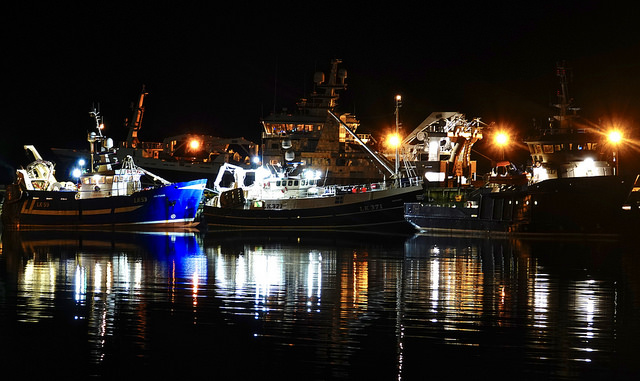fishing_boat: (407, 86, 619, 238), (5, 105, 195, 233), (198, 141, 415, 223)
